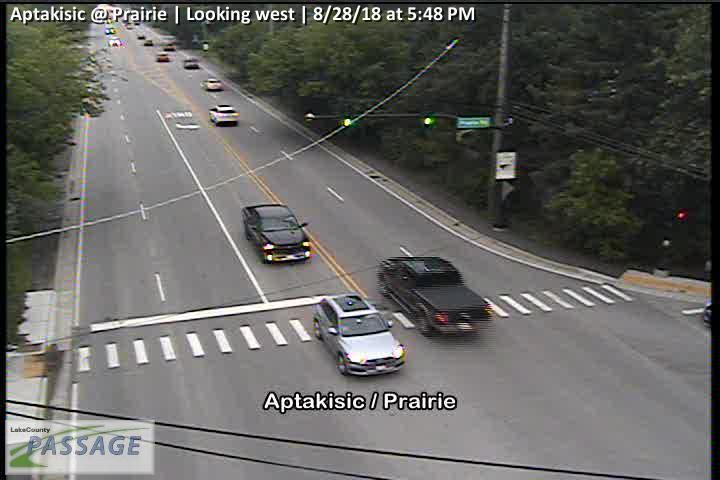SUV: (377, 256, 494, 338), (312, 294, 406, 377), (208, 105, 239, 126)
Sedan: (242, 204, 312, 263), (203, 78, 224, 91), (183, 58, 200, 70), (156, 52, 168, 61), (163, 44, 176, 50), (143, 39, 153, 45)
